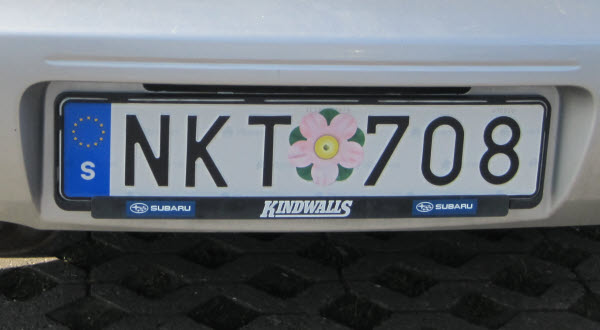license_plate: (59, 96, 549, 200)
